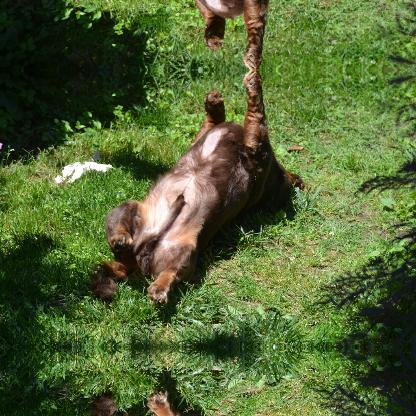Dog: (90, 69, 302, 308), (90, 0, 303, 70)
